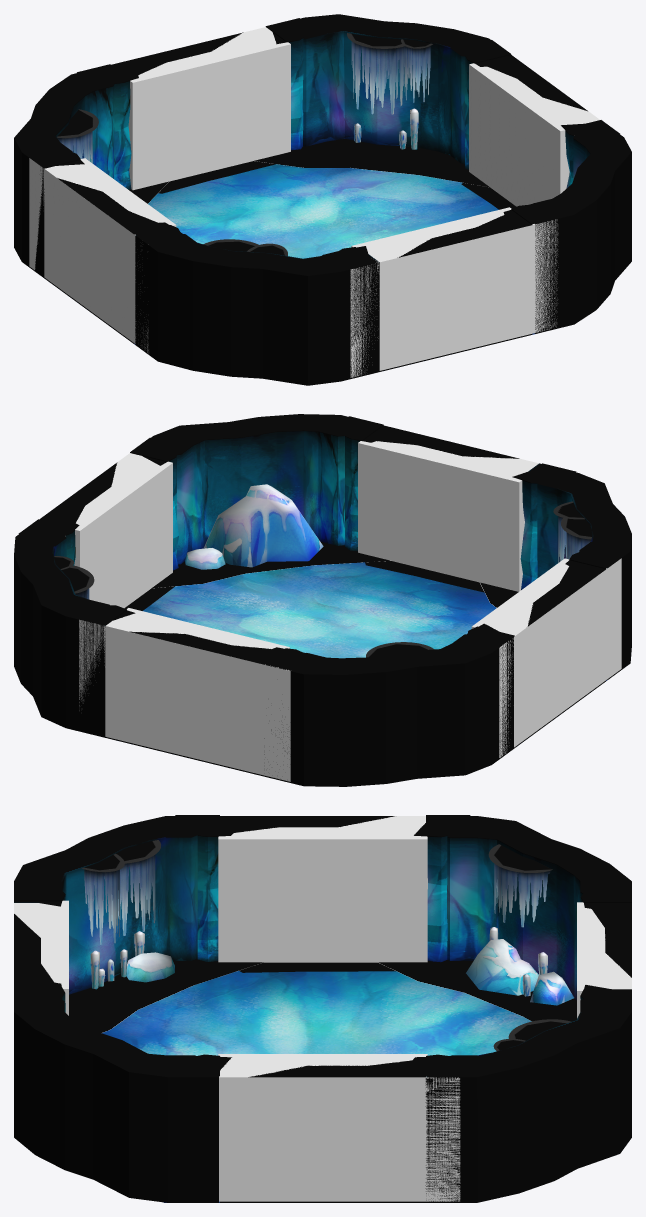
File: Dungeon_072_SpecialRoom_001.fbx
3 renders of one model, top to bottom at view 1: azimuth 30°, elevation 25°; view 2: azimuth 150°, elevation 25°; view 3: azimuth 270°, elevation 25°, orthographic. The views are drawn at different scales.
Parts seen in each view (by area): view 1: Dun_072_StartRoom_001_wall, DoorWay_NavMask (1) (×4), DoorWay_NavMask (3) (×4), Dun_072_StartRoom_001_ground, Dun_072_Door_002 (×4), Dun_072_OB_Icicle, Dun_072_StartRoom_001_shadow, DoorWay_NavMask (2) (×3), Dun_072_Door_002_shadow (×2), Dun_072_OB_Ice_crystals01; view 2: Dun_072_StartRoom_001_wall, DoorWay_NavMask (1) (×4), DoorWay_NavMask (3) (×4), Dun_072_StartRoom_001_ground, Dun_072_Door_002 (×4), Dun_072_OB_Stone02, Dun_072_StartRoom_001_shadow, Dun_072_OB_Icicle, DoorWay_NavMask (2) (×2), Dun_072_Door_002_shadow, Dun_072_OB_Stone01; view 3: Dun_072_StartRoom_001_wall, DoorWay_NavMask (1) (×4), DoorWay_NavMask (3) (×4), Dun_072_StartRoom_001_ground, Dun_072_Door_002 (×4), Dun_072_OB_Icicle, Dun_072_StartRoom_001_shadow, Dun_072_OB_Stone02, DoorWay_NavMask (2) (×3), Dun_072_OB_Stone01, Dun_072_OB_Ice_crystals01, Dun_072_Door_002_shadow.
Boxes of the visible parts, x1,y1,x2,y2 form: Dun_072_StartRoom_001_wall: [14, 14, 631, 385]; DoorWay_NavMask (1) (×4): [43, 27, 571, 370]; DoorWay_NavMask (3) (×4): [29, 27, 599, 377]; Dun_072_StartRoom_001_ground: [134, 164, 534, 344]; Dun_072_Door_002 (×4): [25, 18, 619, 371]; Dun_072_OB_Icicle: [57, 33, 432, 255]; Dun_072_StartRoom_001_shadow: [129, 139, 489, 203]; DoorWay_NavMask (2) (×3): [58, 33, 415, 256]; Dun_072_Door_002_shadow (×2): [158, 161, 516, 209]; Dun_072_OB_Ice_crystals01: [354, 108, 418, 149]; Dun_072_StartRoom_001_wall: [14, 414, 631, 786]; DoorWay_NavMask (1) (×4): [74, 441, 606, 769]; DoorWay_NavMask (3) (×4): [79, 443, 621, 781]; Dun_072_StartRoom_001_ground: [142, 562, 607, 680]; Dun_072_Door_002 (×4): [18, 416, 625, 776]; Dun_072_OB_Stone02: [203, 484, 323, 567]; Dun_072_StartRoom_001_shadow: [152, 541, 518, 607]; Dun_072_OB_Icicle: [54, 501, 592, 657]; DoorWay_NavMask (2) (×2): [114, 457, 530, 632]; Dun_072_Door_002_shadow: [365, 561, 484, 592]; Dun_072_OB_Stone01: [185, 548, 225, 569]; Dun_072_StartRoom_001_wall: [14, 816, 631, 1202]; DoorWay_NavMask (1) (×4): [15, 816, 597, 1201]; DoorWay_NavMask (3) (×4): [14, 816, 631, 1201]; Dun_072_StartRoom_001_ground: [102, 971, 531, 1202]; Dun_072_Door_002 (×4): [14, 815, 631, 1202]; Dun_072_OB_Icicle: [81, 840, 571, 1051]; Dun_072_StartRoom_001_shadow: [69, 958, 576, 1032]; Dun_072_OB_Stone02: [466, 939, 538, 995]; DoorWay_NavMask (2) (×3): [20, 818, 427, 1074]; Dun_072_OB_Stone01: [126, 952, 574, 1005]; Dun_072_OB_Ice_crystals01: [90, 927, 547, 996]; Dun_072_Door_002_shadow: [239, 962, 395, 972].
Size of what is drawn, in the model's own units: 9 by 2.05 by 9.
